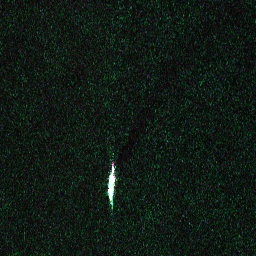ship: (106, 172, 116, 202)
